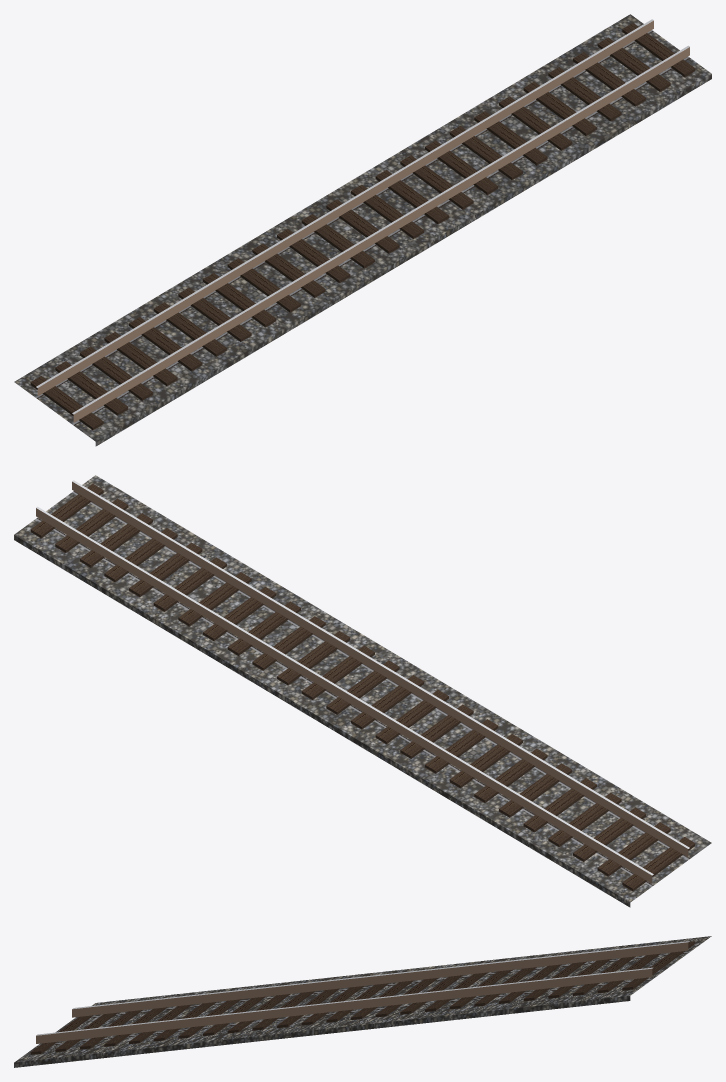
Rendered from kolej_svah_oci_drevo.glb.
3 renders of one model, top to bottom at view 1: azimuth 30°, elevation 25°; view 2: azimuth 150°, elevation 25°; view 3: azimuth 330°, elevation 25°, orthographic.
Visible parts, largest first — view 1: kolej_svah_oci_drevo; view 2: kolej_svah_oci_drevo; view 3: kolej_svah_oci_drevo.
Boxes of the visible parts, x1=… form: kolej_svah_oci_drevo: x1=14, y1=14, x2=711, y2=446; kolej_svah_oci_drevo: x1=14, y1=475, x2=711, y2=907; kolej_svah_oci_drevo: x1=14, y1=936, x2=711, y2=1067.
Bounding box in the file's own units: 14.84 × 5.37 × 3.4.
4 materials, 2 textured.
